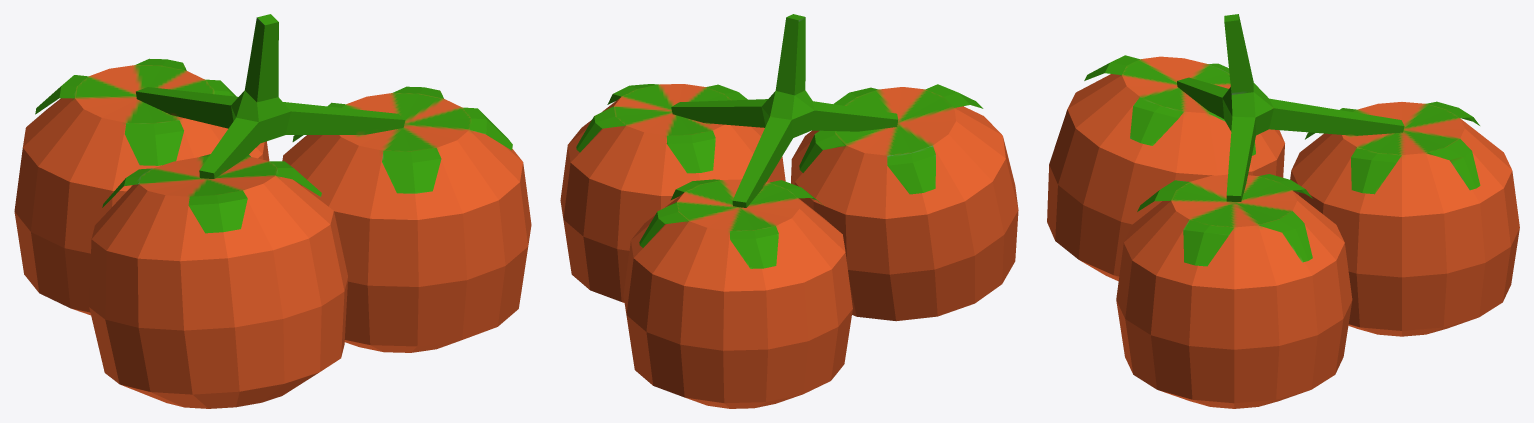
The model's file is tomato.fbx.
3 views of the same model, side by side, from view 1: azimuth 30°, elevation 25°; view 2: azimuth 150°, elevation 25°; view 3: azimuth 270°, elevation 25° (orthographic). The views are drawn at different scales.
Parts seen in each view (by area): view 1: Tomato; view 2: Tomato; view 3: Tomato.
Boxes of the visible parts, <box> form: Tomato: <box>14,14,531,408</box>; Tomato: <box>560,14,1018,408</box>; Tomato: <box>1047,14,1519,408</box>.
Bounding box in the file's own units: 134 × 97.11 × 136.
